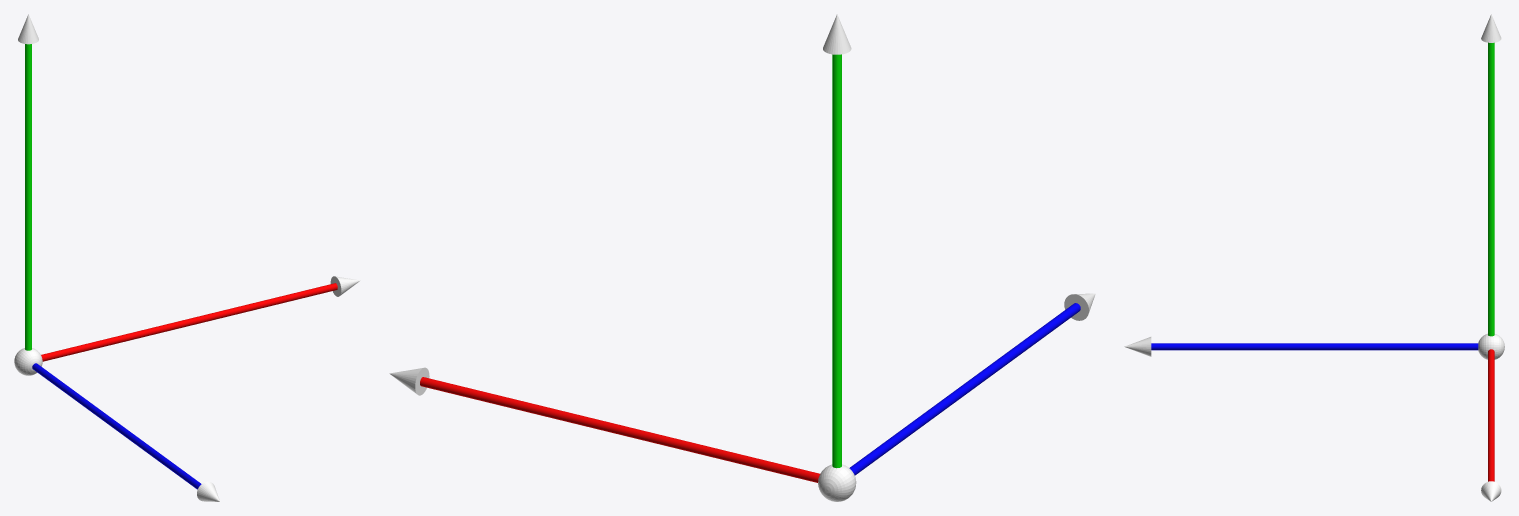
File: axes.glb
The picture shows the model from 3 angles, left to right: view 1: azimuth 30°, elevation 25°; view 2: azimuth 150°, elevation 25°; view 3: azimuth 270°, elevation 25°; orthographic projection. The views are drawn at different scales.
Parts seen in each view (by area): view 1: X_Shaft, Y_Shaft, Z_Shaft, OriginSphere; view 2: X_Shaft, Y_Shaft, Z_Shaft, OriginSphere; view 3: Z_Shaft, Y_Shaft, X_Shaft, OriginSphere.
Boxes of the visible parts, left/top/right/bottom form: X_Shaft: left=41, top=283, right=337, bottom=361; Y_Shaft: left=25, top=44, right=31, bottom=350; Z_Shaft: left=32, top=363, right=201, bottom=489; OriginSphere: left=14, top=348, right=42, bottom=375; X_Shaft: left=420, top=377, right=819, bottom=482; Y_Shaft: left=832, top=54, right=841, bottom=468; Z_Shaft: left=849, top=303, right=1080, bottom=475; OriginSphere: left=818, top=464, right=856, bottom=501; Z_Shaft: left=1151, top=343, right=1478, bottom=350; Y_Shaft: left=1488, top=42, right=1494, bottom=336; X_Shaft: left=1488, top=349, right=1494, bottom=481; OriginSphere: left=1478, top=333, right=1504, bottom=359.
Size of the model in its own units: 1.12 by 1.12 by 1.12.
